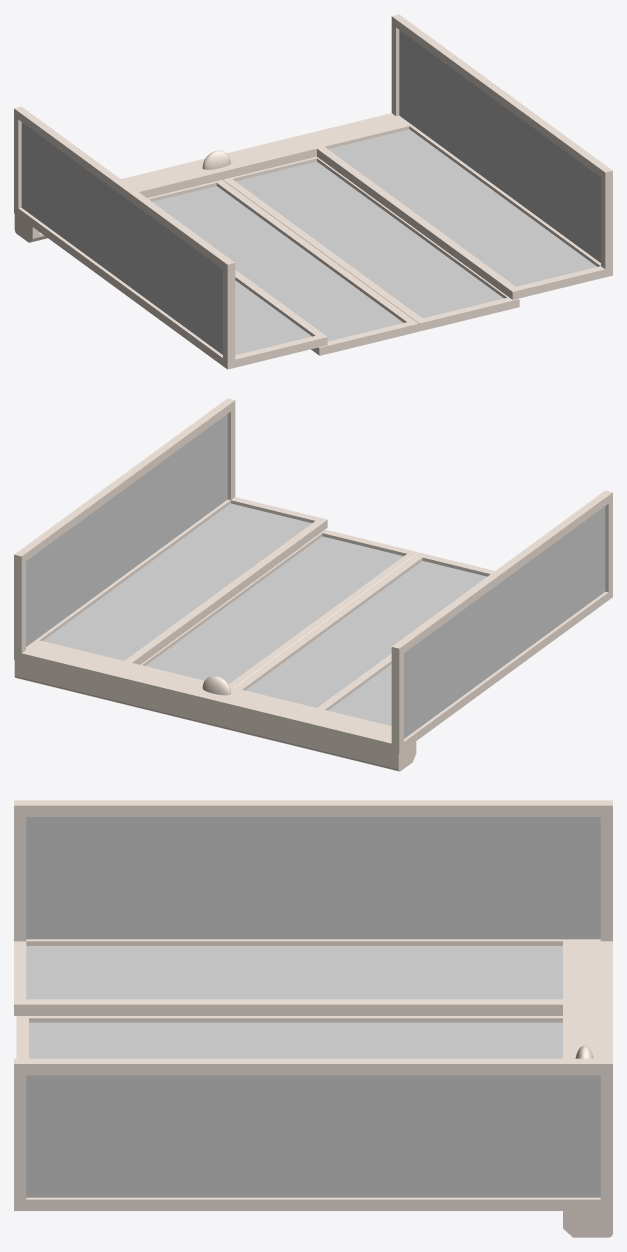
The model's file is automaticdoor.FBX.
3 views of the same model, one above another, from view 1: azimuth 30°, elevation 25°; view 2: azimuth 150°, elevation 25°; view 3: azimuth 270°, elevation 25° (orthographic). The views are drawn at different scales.
Visible parts, largest first — view 1: Revolución1, Saliente-Extruir8, Simetría2, Simetría3, Simetría4, Saliente-Extruir11, Redondeo1, Redondeo2, Saliente-Extruir10; view 2: Revolución1, Simetría2, Saliente-Extruir8, Simetría3, Simetría4, Saliente-Extruir11, Redondeo1, Redondeo2, Saliente-Extruir10; view 3: Saliente-Extruir8, Simetría2, Revolución1, Saliente-Extruir10, Saliente-Extruir11, Redondeo2.
Boxes of the visible parts, x1,y1,x2,y2 form: Revolución1: (14,14,612,369); Saliente-Extruir8: (399,30,600,262); Simetría2: (21,122,222,354); Simetría3: (328,129,596,286); Simetría4: (236,161,503,318); Saliente-Extruir11: (152,186,403,341); Redondeo1: (222,156,519,331); Redondeo2: (147,180,419,355); Saliente-Extruir10: (235,280,311,355); Revolución1: (14,398,612,771); Simetría2: (404,506,605,738); Saliente-Extruir8: (26,414,227,646); Simetría3: (43,503,311,660); Simetría4: (145,536,403,684); Saliente-Extruir11: (246,561,486,707); Redondeo1: (140,529,418,687); Redondeo2: (235,552,494,690); Saliente-Extruir10: (328,664,391,725); Saliente-Extruir8: (26,1075,600,1197); Simetría2: (26,817,600,939); Revolución1: (14,800,612,1237); Saliente-Extruir10: (26,946,562,999); Saliente-Extruir11: (29,1022,562,1058); Redondeo2: (16,1016,562,1058).
Bounding box in the file's own units: 98.43 × 30.31 × 94.49.
